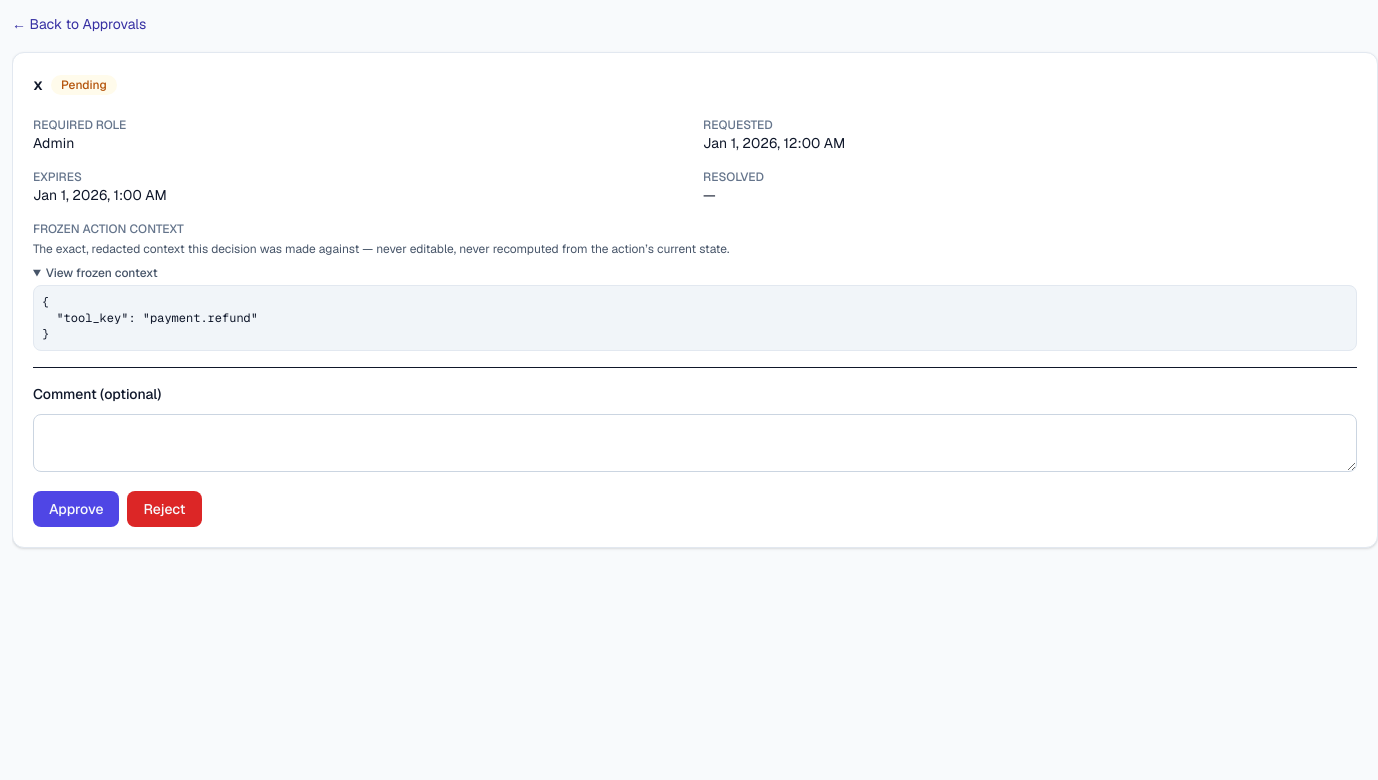
Test: ApprovalDetailPage › on a backend permission-denial, shows the real safe message and refetches — no state corruption
The width and height of the screenshot is (1378, 780).
What coordinates should you click on to do the following:
click the button "Approve"
I would click on:
 (76, 509)
Its box is 33,491 -> 120,527.
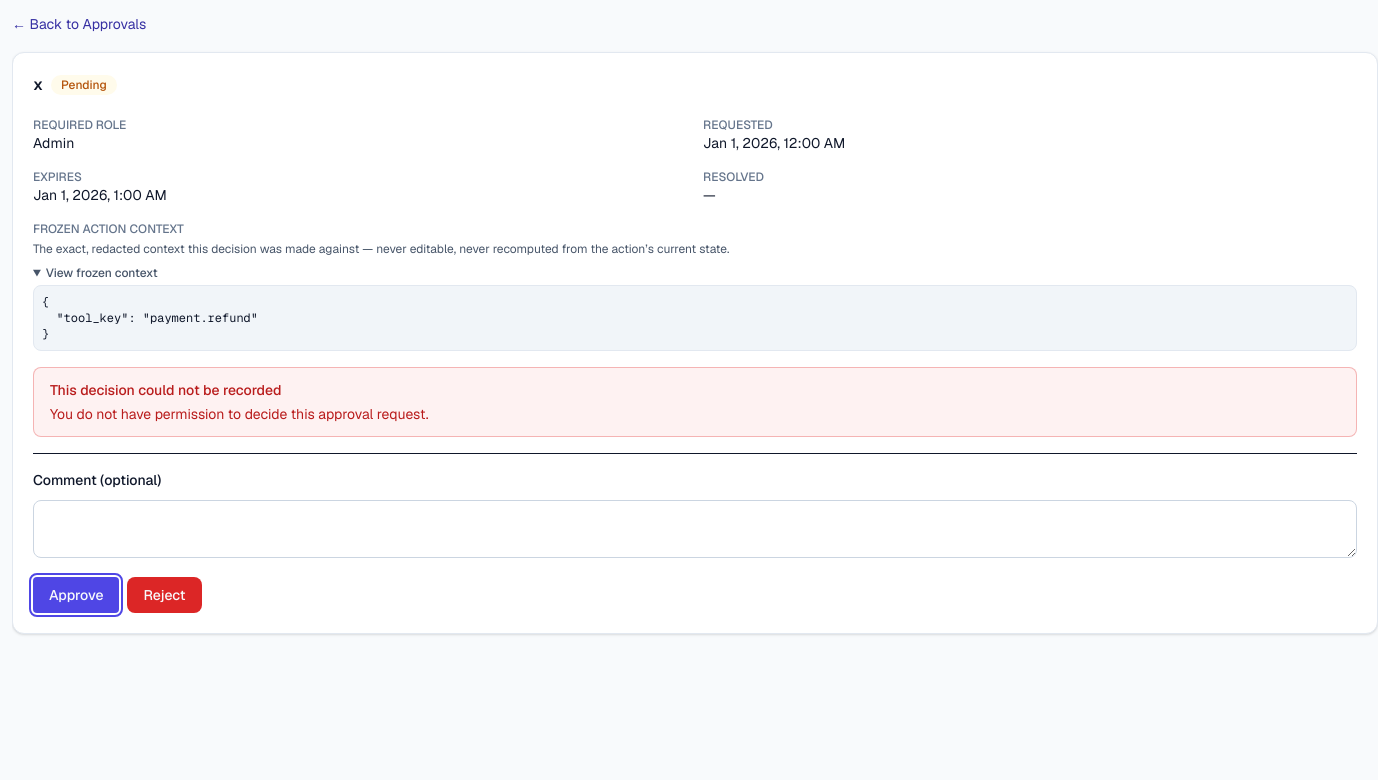
Expected: the text "Pending" is shown, 51,75 -> 117,95
Now the text "You do not have permission to decide this approval request." is shown, box 50,405 -> 429,423
